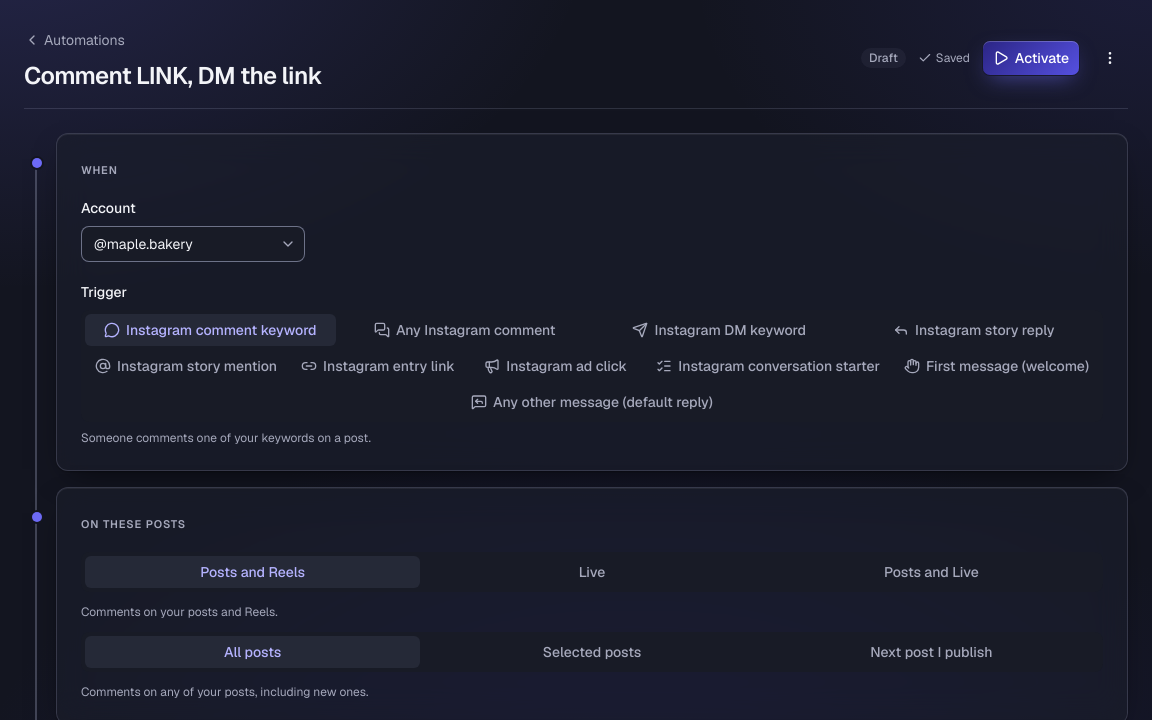
AutomationEditor activation (FR-AUT-02) › activates: the pill turns Active, the line animates, Pause replaces Activate
Click the button "Activate".
click(1031, 58)  # box [982, 40, 1080, 76]
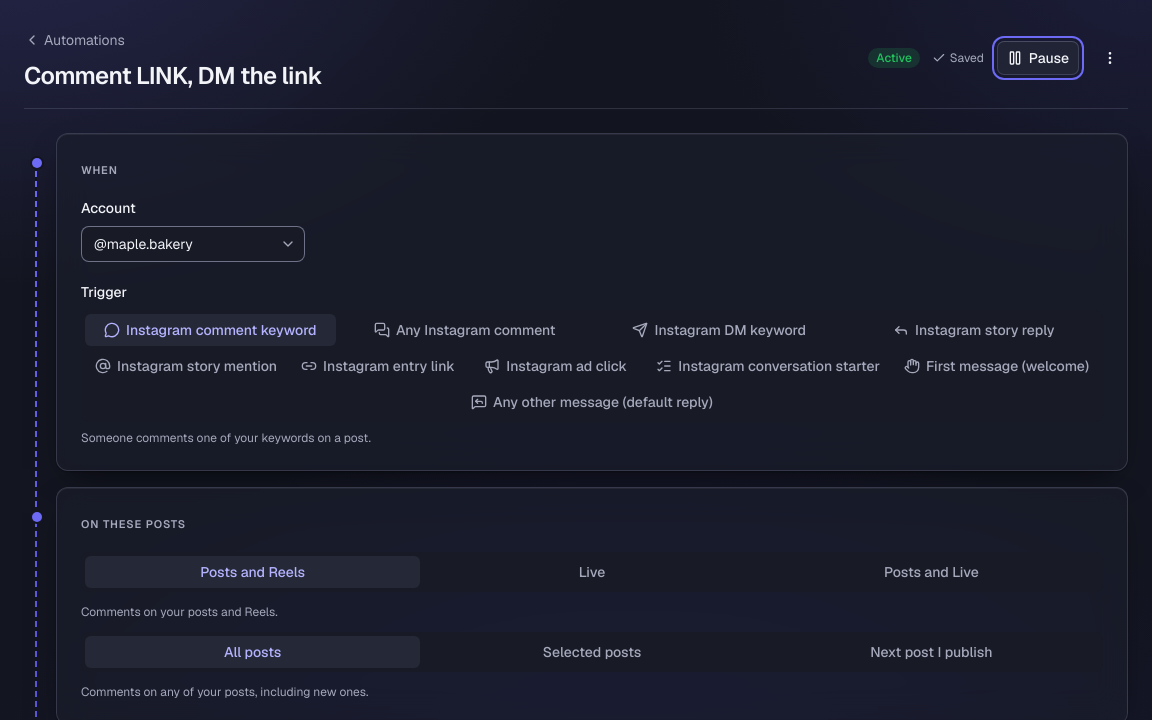
Now the text with test id "status-pill" reads "Active", box [876, 50, 912, 66]
Now the button "Pause" is shown, box [996, 40, 1080, 76]
